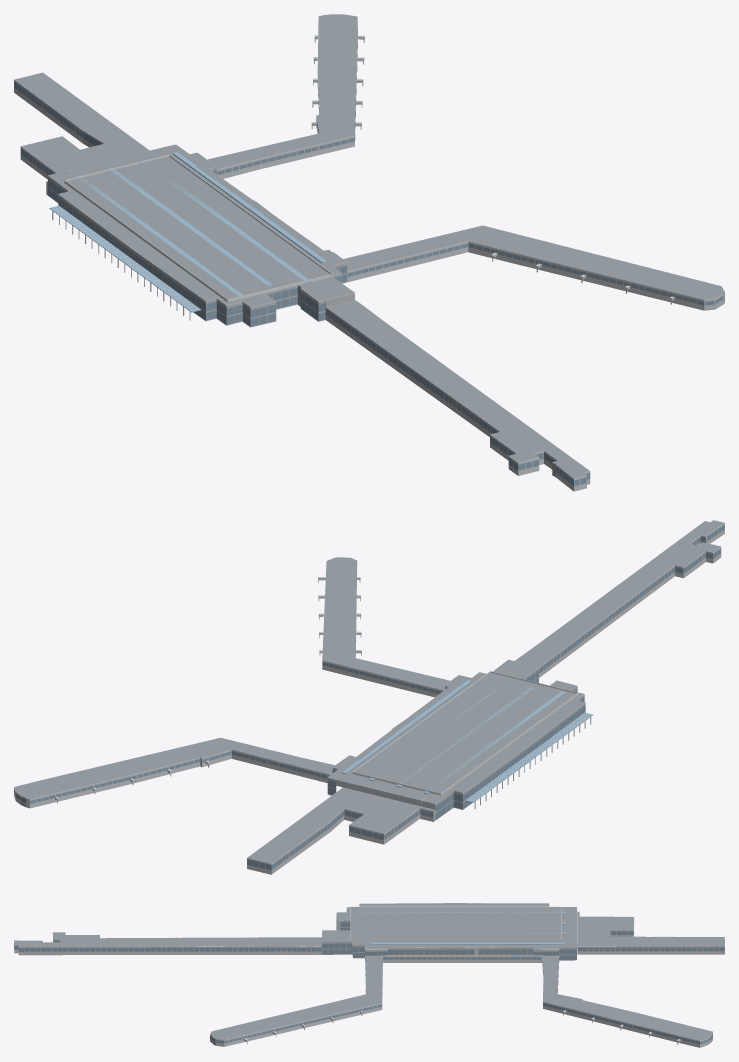
Rendered from singapore-changi-terminal-2.glb.
3 views of the same model, one above another, from view 1: azimuth 30°, elevation 25°; view 2: azimuth 150°, elevation 25°; view 3: azimuth 270°, elevation 25° (orthographic). The views are drawn at different scales.
Visible parts, largest first — view 1: Changi Airport Terminal 2; view 2: Changi Airport Terminal 2; view 3: Changi Airport Terminal 2.
Part boxes in pixels (x1,y1,x2,y2): Changi Airport Terminal 2: (14, 14, 724, 491); Changi Airport Terminal 2: (14, 520, 724, 874); Changi Airport Terminal 2: (14, 903, 724, 1047).
Size of the model in its own units: 528 by 27 by 1177.
